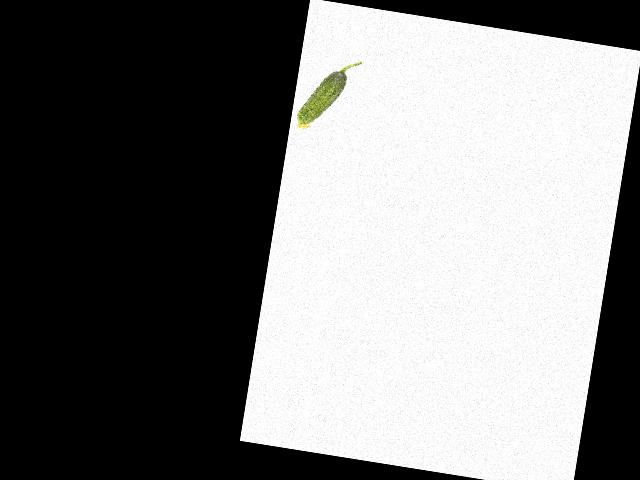cucumber: (294, 53, 361, 137)
